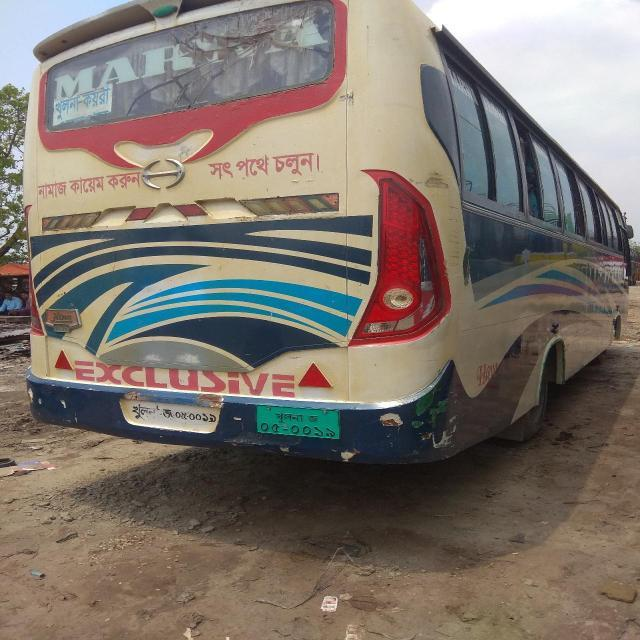numberplate: (118, 396, 222, 434), (254, 404, 341, 440)
